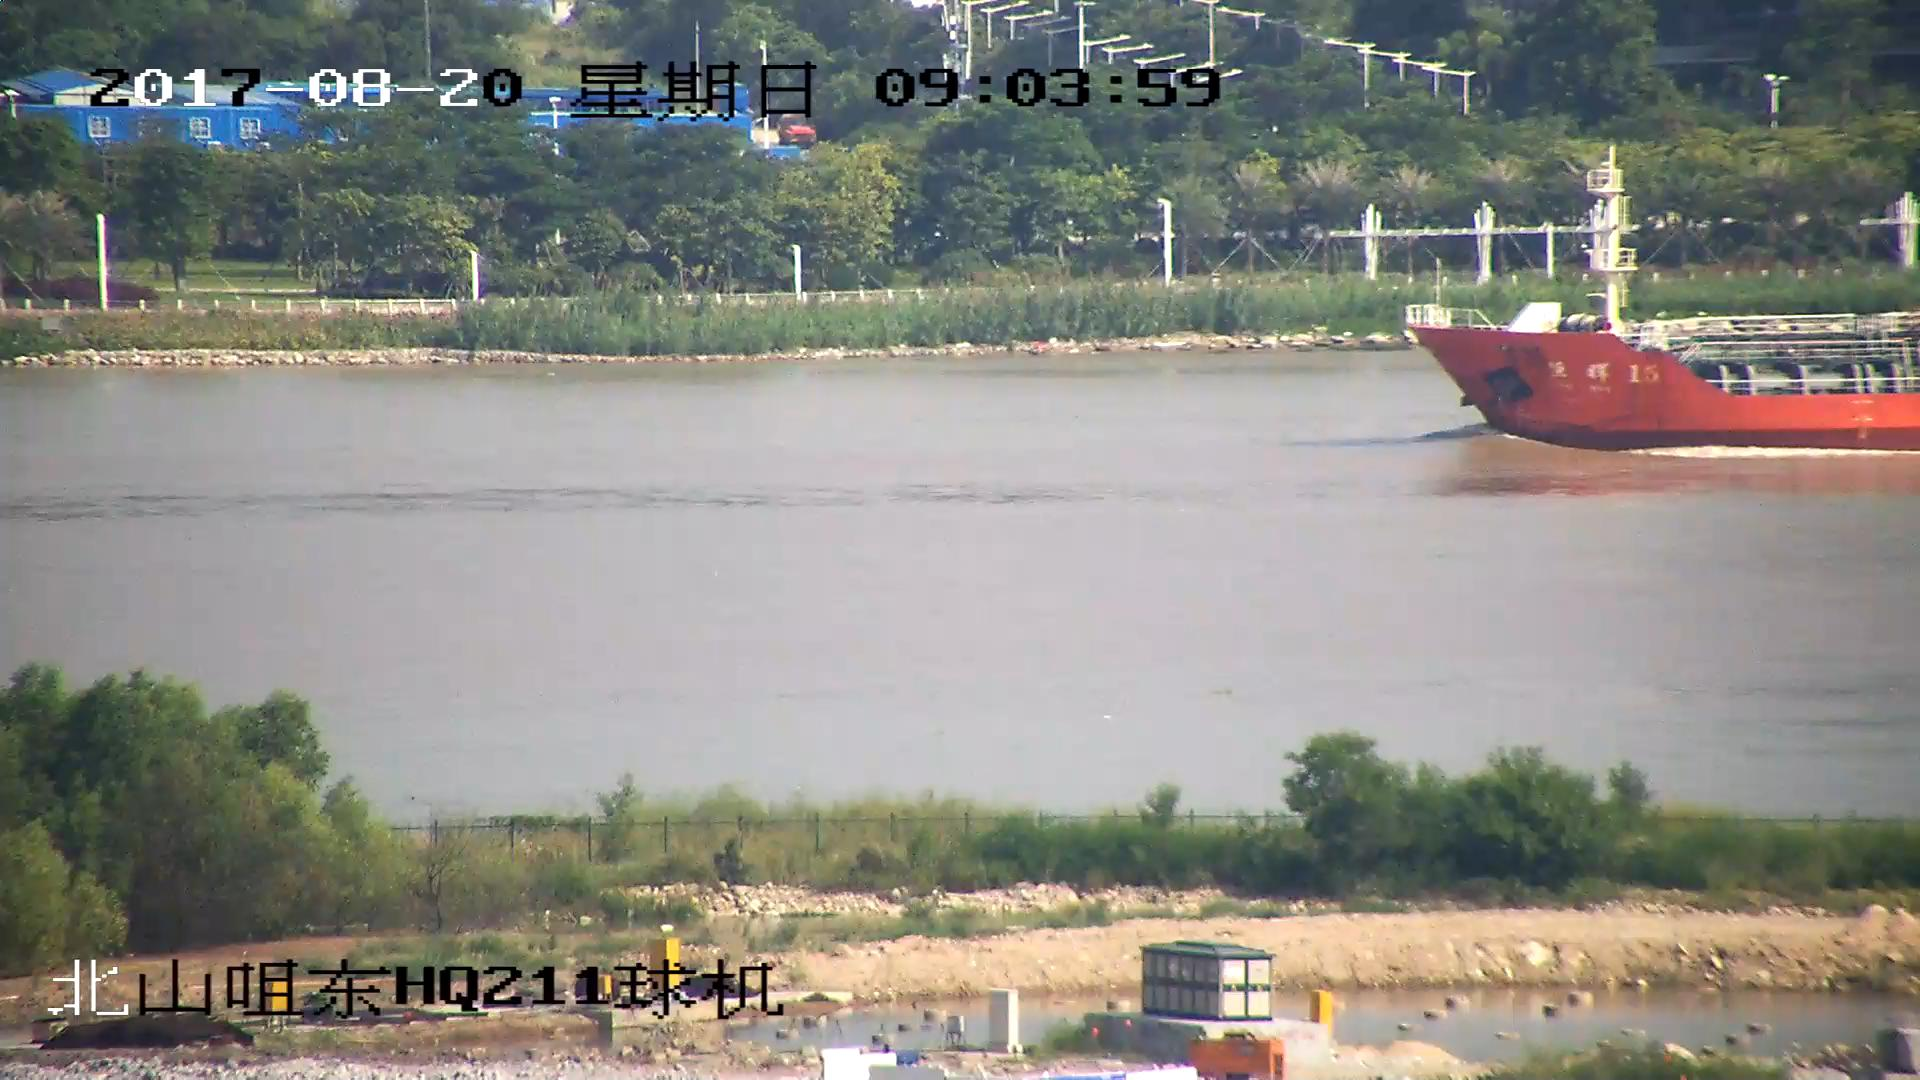general cargo ship: (1405, 180, 1920, 451)
